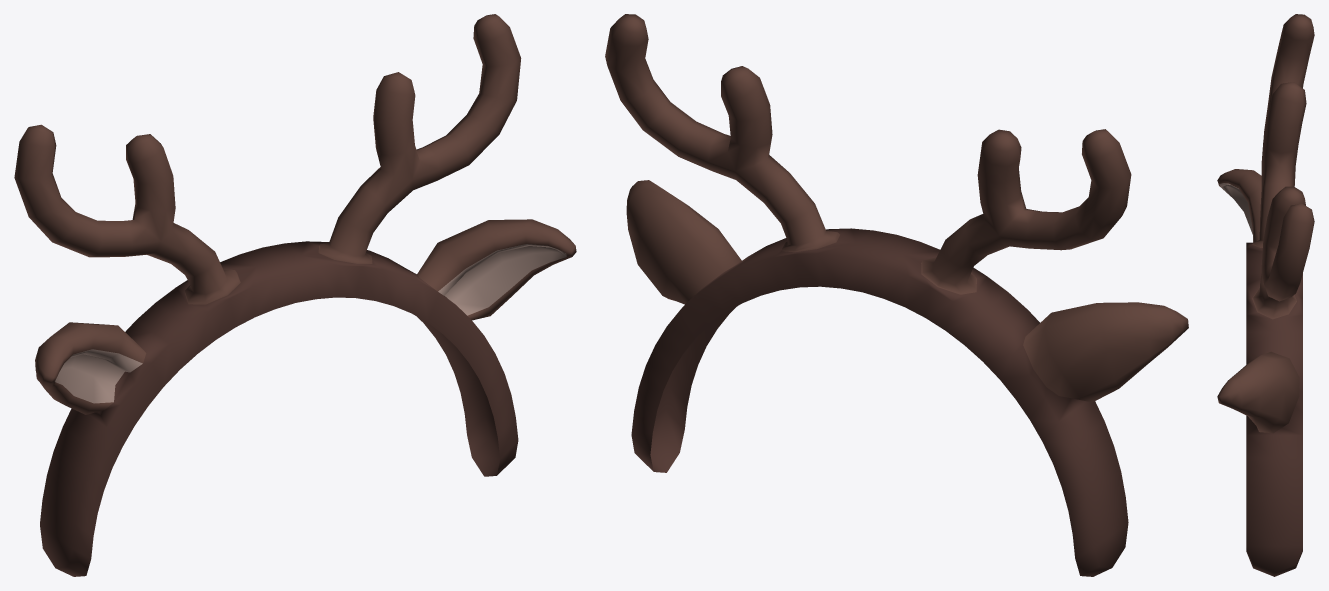
The model's file is sung huou.fbx.
The picture shows the model from 3 angles, left to right: view 1: azimuth 30°, elevation 25°; view 2: azimuth 150°, elevation 25°; view 3: azimuth 270°, elevation 25°; orthographic projection. The views are drawn at different scales.
Visible parts, largest first — view 1: sung_huou; view 2: sung_huou; view 3: sung_huou.
Boxes of the visible parts, x1,y1,x2,y2 form: sung_huou: (14, 14, 576, 576); sung_huou: (605, 14, 1188, 576); sung_huou: (1217, 14, 1314, 576).
Size of the model in its own units: 133 by 106 by 24.59.
